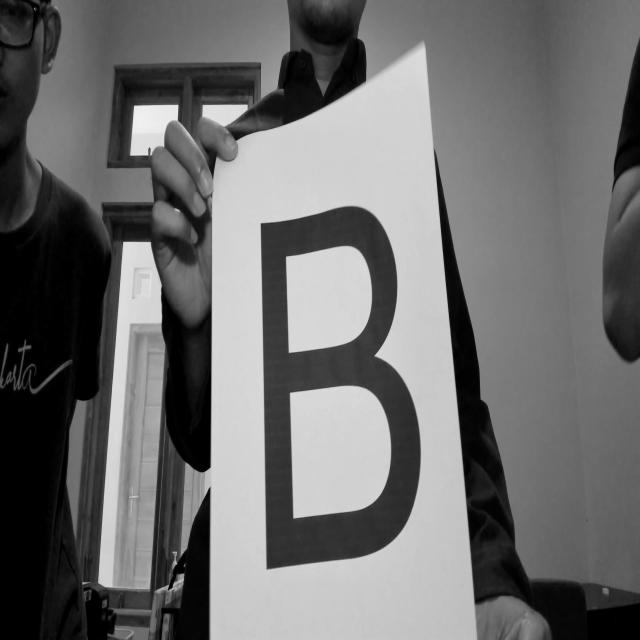b: (232, 192, 434, 584)
